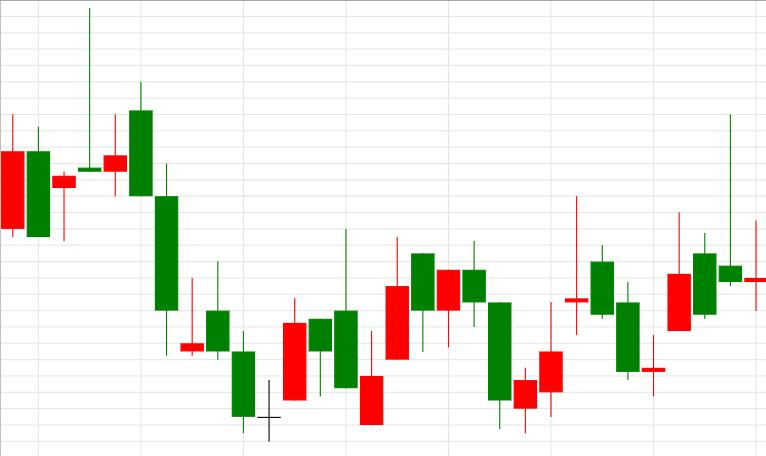morning_star_rise: (129, 82, 306, 441)
